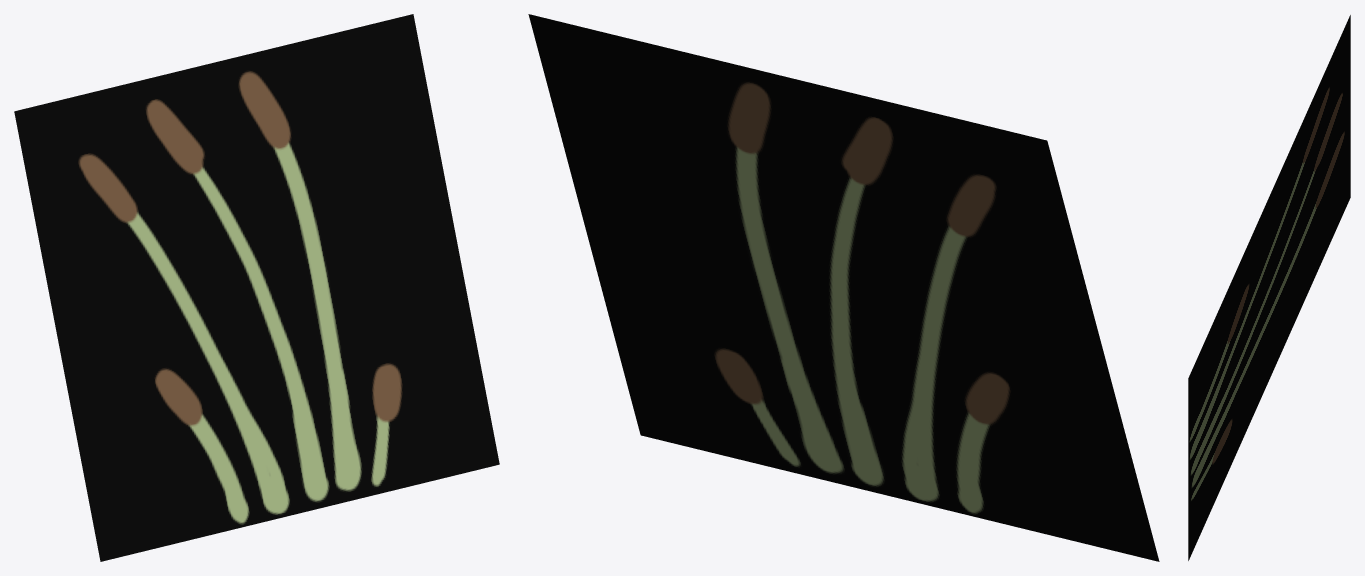
Rendered from Flower_003.fbx.
3 renders of one model, left to right at view 1: azimuth 30°, elevation 25°; view 2: azimuth 150°, elevation 25°; view 3: azimuth 270°, elevation 25°, orthographic. The views are drawn at different scales.
Visible parts, largest first — view 1: Flower_003; view 2: Flower_003; view 3: Flower_003.
Part boxes in pixels (left/top/right/bottom): Flower_003: left=14, top=14, right=499, bottom=561; Flower_003: left=528, top=14, right=1159, bottom=561; Flower_003: left=1188, top=15, right=1350, bottom=560.
Bounding box in the file's own units: 100 × 92.72 × 37.45.
1 material, 1 textured.
